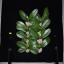leaf: (40, 7, 50, 22), (19, 9, 29, 21), (40, 28, 52, 38), (16, 41, 28, 50), (29, 8, 38, 20), (30, 27, 39, 39), (40, 19, 50, 29), (16, 21, 27, 30), (41, 37, 50, 48), (28, 41, 38, 50), (16, 32, 27, 39), (32, 21, 40, 29), (29, 49, 39, 55), (17, 47, 28, 52), (40, 28, 46, 36), (27, 40, 32, 48), (24, 14, 28, 19)
